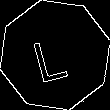L_N: (34, 27, 76, 83)
